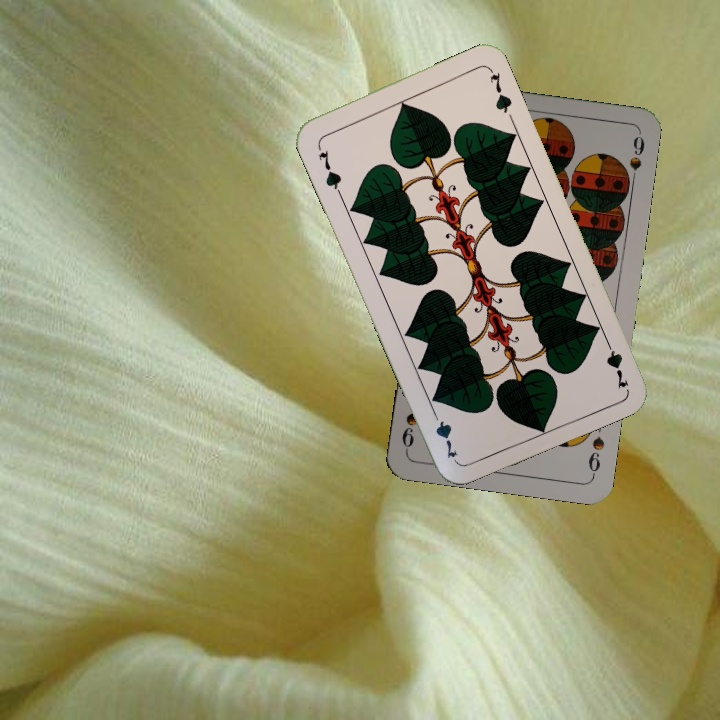G7: (600, 332, 632, 391), (313, 140, 344, 197)
S9: (584, 432, 607, 479)
